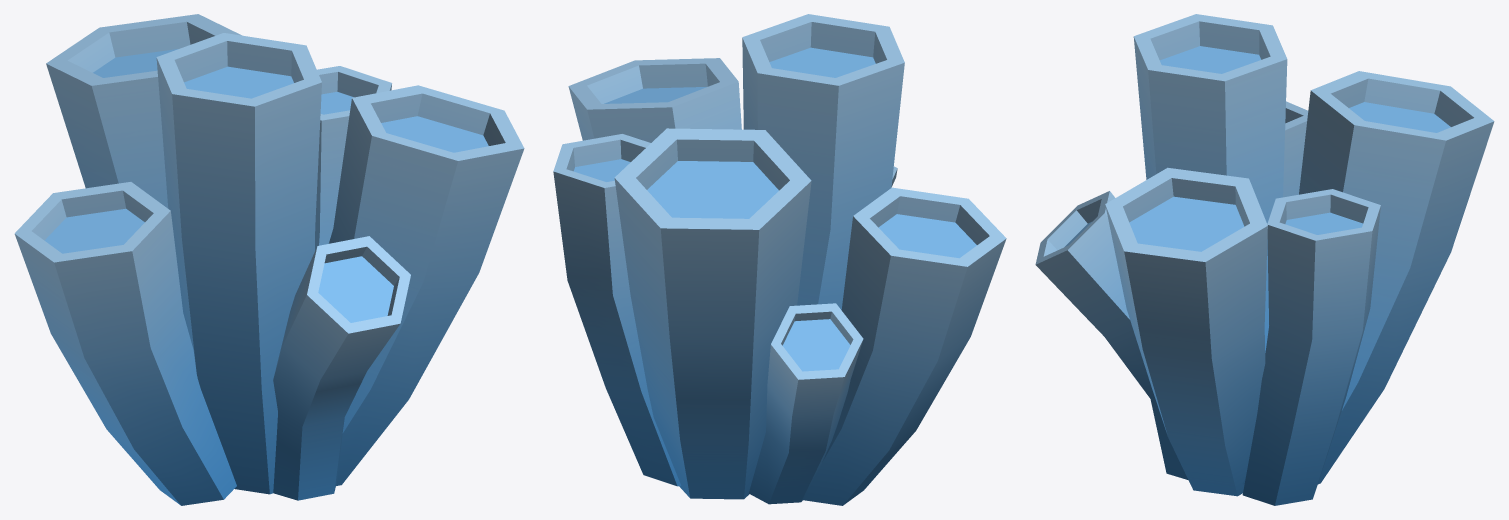
The model's file is CoralReef_08.fbx.
3 renders of one model, left to right at view 1: azimuth 30°, elevation 25°; view 2: azimuth 150°, elevation 25°; view 3: azimuth 270°, elevation 25°, orthographic. The views are drawn at different scales.
Visible parts, largest first — view 1: CoralReef_08_LOD0; view 2: CoralReef_08_LOD0; view 3: CoralReef_08_LOD0.
Part boxes in pixels (<box>): CoralReef_08_LOD0: <box>14,14,524,505</box>; CoralReef_08_LOD0: <box>553,14,1006,505</box>; CoralReef_08_LOD0: <box>1035,14,1494,505</box>.
Size of what is drawn, in the model's own units: 0.2759 by 0.2543 by 0.2635.
